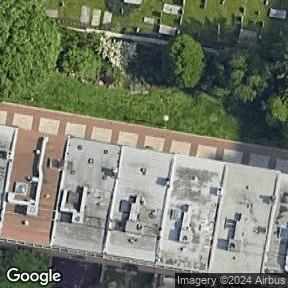vegetation: (0, 0, 102, 100), (0, 247, 64, 288), (171, 34, 205, 86), (266, 95, 288, 126)
